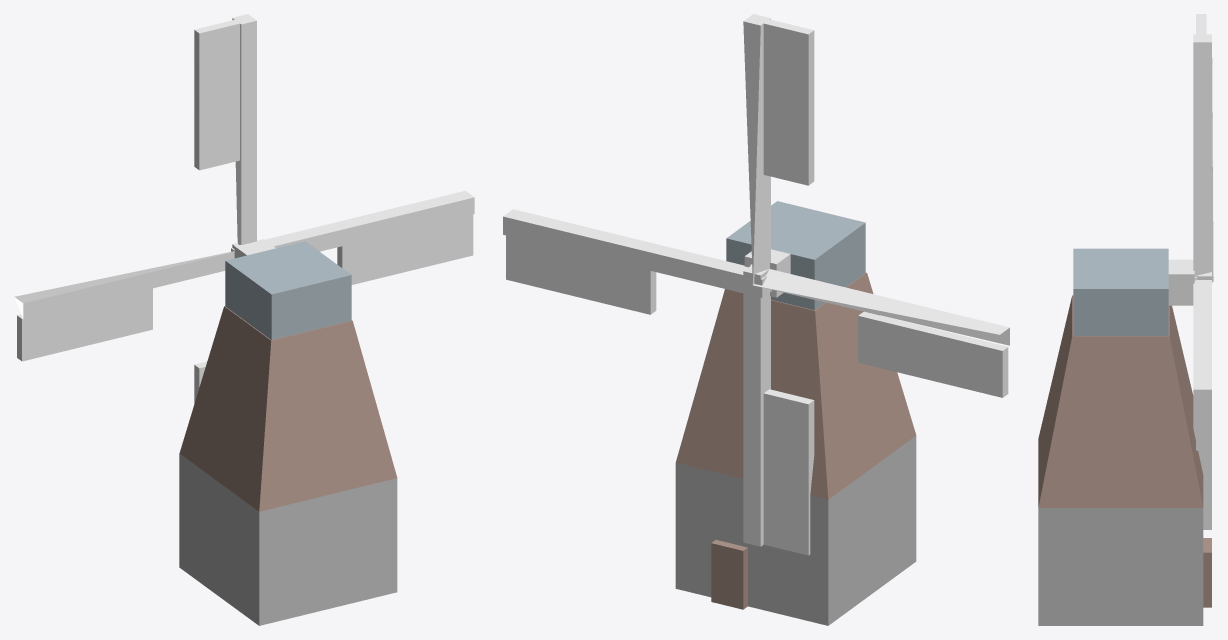
The picture shows the model from 3 angles, left to right: view 1: azimuth 30°, elevation 25°; view 2: azimuth 150°, elevation 25°; view 3: azimuth 270°, elevation 25°; orthographic projection. The views are drawn at different scales.
Parts seen in each view (by area): view 1: group1403297840, group92997118, group2018029415; view 2: group92997118, group1403297840, group2018029415, group44689503; view 3: group1403297840, group92997118, group2018029415, group44689503.
Part boxes in pixels (bbox=[...]): group1403297840: bbox=[179, 306, 397, 625]; group92997118: bbox=[14, 14, 474, 403]; group2018029415: bbox=[225, 241, 351, 339]; group92997118: bbox=[503, 14, 1009, 555]; group1403297840: bbox=[675, 272, 916, 625]; group2018029415: bbox=[726, 201, 865, 310]; group44689503: bbox=[711, 540, 747, 609]; group1403297840: bbox=[1038, 295, 1203, 625]; group92997118: bbox=[1168, 14, 1213, 529]; group2018029415: bbox=[1073, 248, 1168, 335]; group44689503: bbox=[1203, 538, 1211, 607].
Size of the model in its own units: 3.15 by 3.56 by 1.03.
